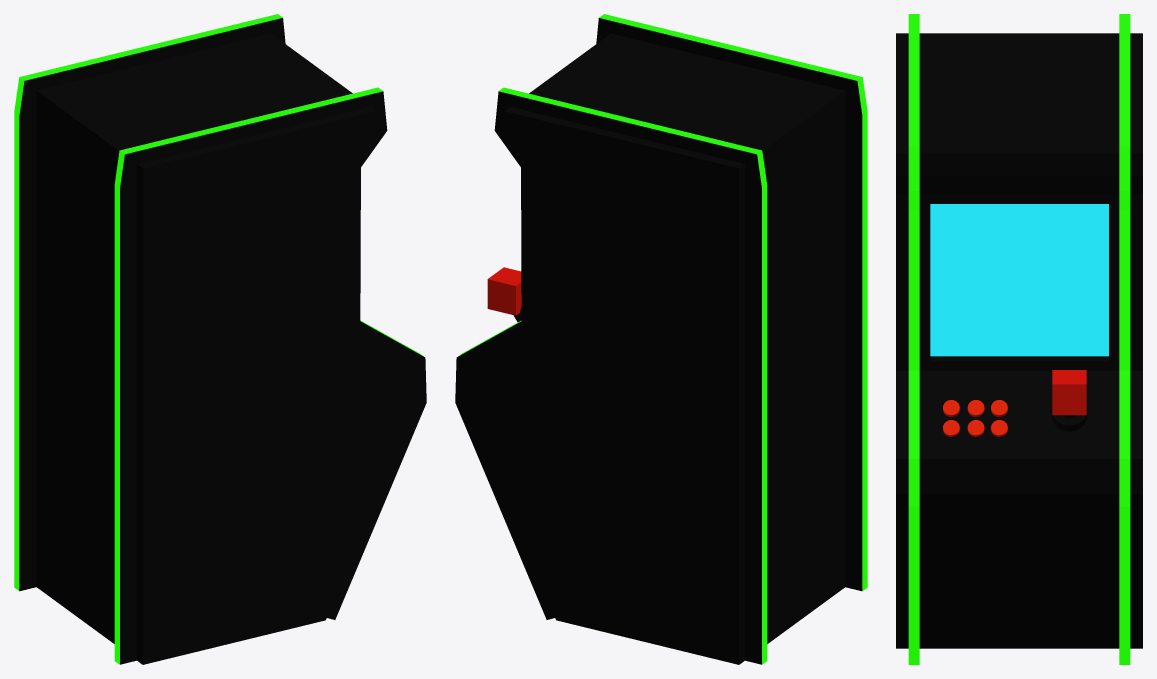
The model's file is gameMachine.glb.
3 views of the same model, side by side, from view 1: azimuth 30°, elevation 25°; view 2: azimuth 150°, elevation 25°; view 3: azimuth 270°, elevation 25° (orthographic). The views are drawn at different scales.
Parts seen in each view (by area): view 1: machine; view 2: machine, Cube; view 3: machine, Cube, button, stick.
Part boxes in pixels (bbox=[...]): machine: bbox=[14, 14, 426, 664]; machine: bbox=[455, 14, 867, 664]; Cube: bbox=[487, 267, 521, 315]; machine: bbox=[896, 14, 1142, 664]; Cube: bbox=[1052, 370, 1086, 415]; button: bbox=[943, 400, 1007, 436]; stick: bbox=[1051, 406, 1087, 431].
Size of the model in its own units: 3.36 by 5.4 by 2.22.
